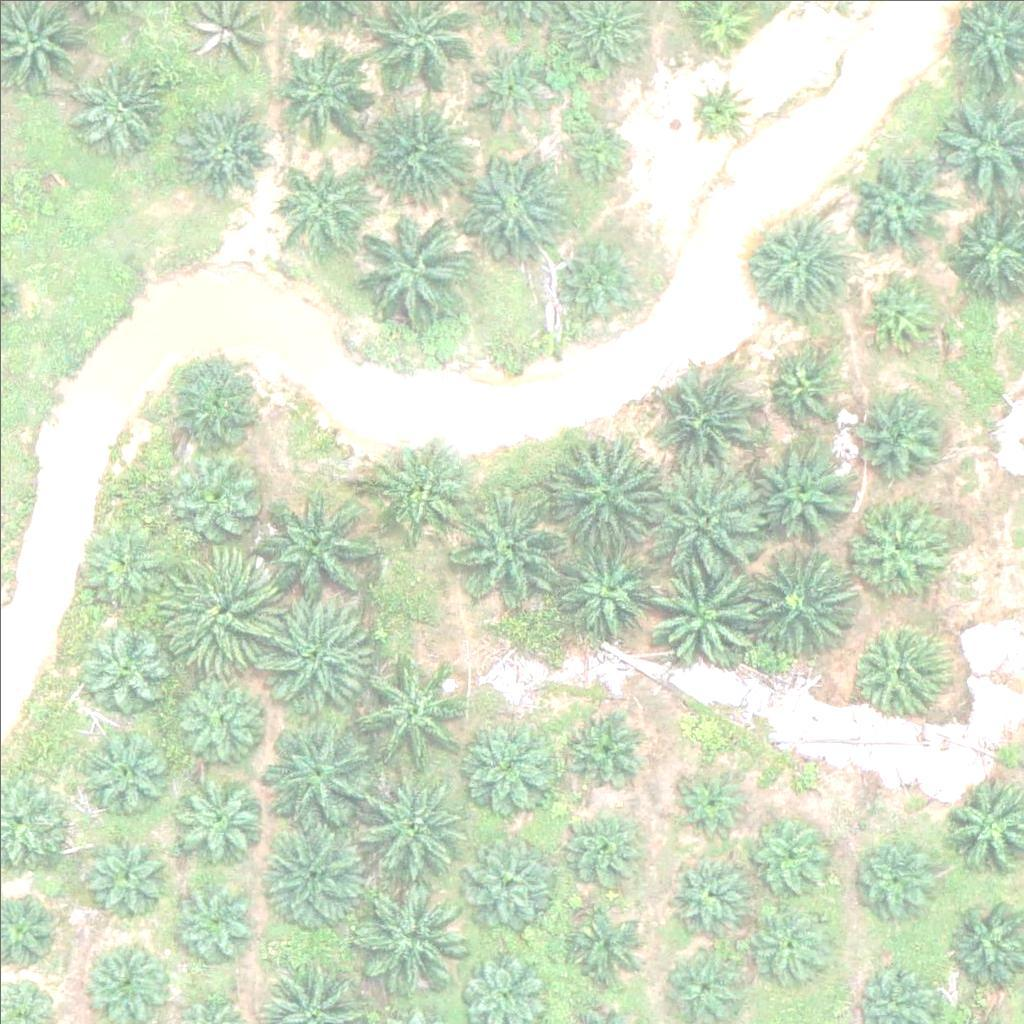Kelapa_Sawit: (552, 434, 665, 548), (263, 819, 376, 933), (355, 217, 468, 330), (461, 144, 574, 257), (164, 556, 277, 669), (259, 722, 372, 835), (745, 539, 858, 652), (253, 594, 365, 708), (264, 493, 376, 606), (366, 89, 478, 202), (453, 493, 565, 606), (645, 460, 757, 573), (352, 656, 464, 769), (352, 765, 464, 878), (356, 877, 468, 990), (646, 556, 758, 669), (72, 55, 172, 156), (276, 35, 376, 136), (757, 442, 857, 543), (76, 715, 176, 816), (459, 822, 559, 923), (558, 541, 658, 642), (166, 354, 266, 454), (175, 101, 275, 201), (369, 433, 469, 533), (659, 368, 759, 468), (749, 208, 849, 308), (846, 500, 946, 600), (843, 155, 943, 255), (166, 670, 266, 770), (162, 766, 262, 866), (460, 717, 560, 817), (848, 615, 948, 715), (174, 459, 262, 547), (463, 41, 551, 129), (558, 233, 646, 321), (861, 395, 949, 483), (77, 524, 165, 612), (168, 875, 256, 963), (560, 700, 648, 788), (277, 152, 364, 240), (81, 932, 168, 1020), (80, 616, 167, 704), (85, 837, 172, 925), (853, 831, 940, 919), (743, 814, 830, 902), (747, 899, 834, 987), (661, 854, 748, 942), (563, 810, 650, 898), (555, 907, 642, 995), (672, 769, 747, 845), (862, 276, 937, 352), (767, 351, 842, 426), (559, 115, 634, 190), (686, 76, 749, 139)
